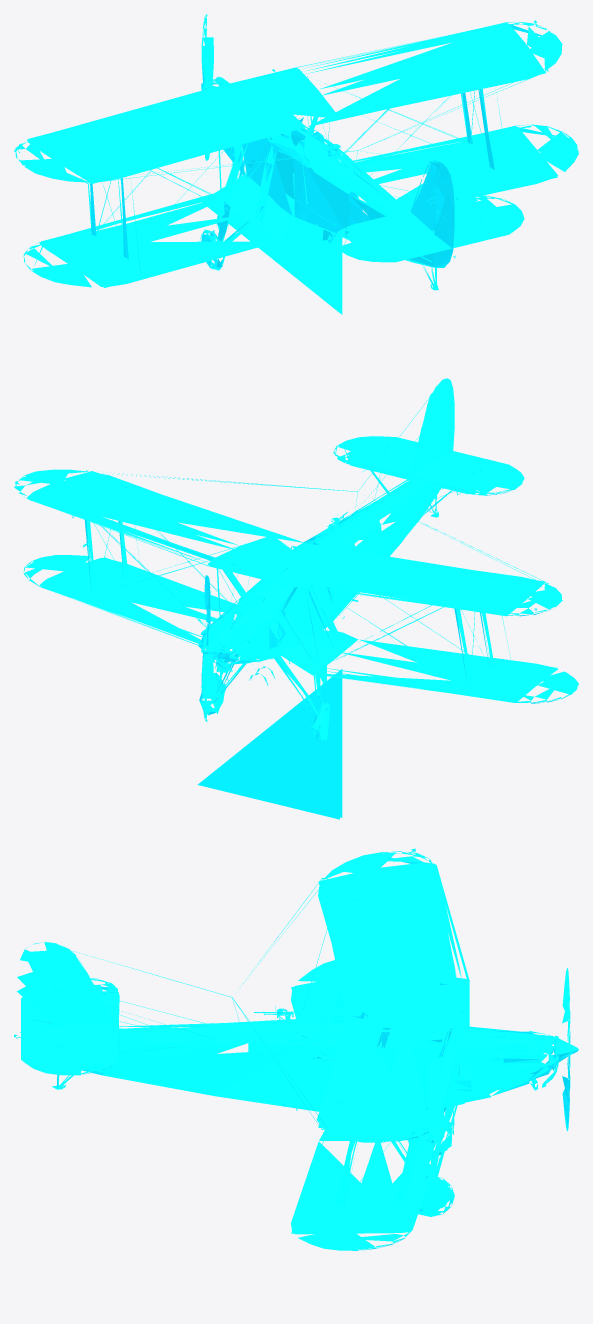
File: PBAB001.glb
The picture shows the model from 3 angles, top to bottom: view 1: azimuth 30°, elevation 25°; view 2: azimuth 150°, elevation 25°; view 3: azimuth 270°, elevation 25°; orthographic projection. The views are drawn at different scales.
Visible parts, largest first — view 1: misc; view 2: misc; view 3: misc.
Boxes of the visible parts, x1,y1,x2,y2 form: misc: (14,14,578,314); misc: (14,378,578,819); misc: (14,848,578,1250).
Bounding box in the file's own units: 0.9253 × 0.4822 × 0.7505.
